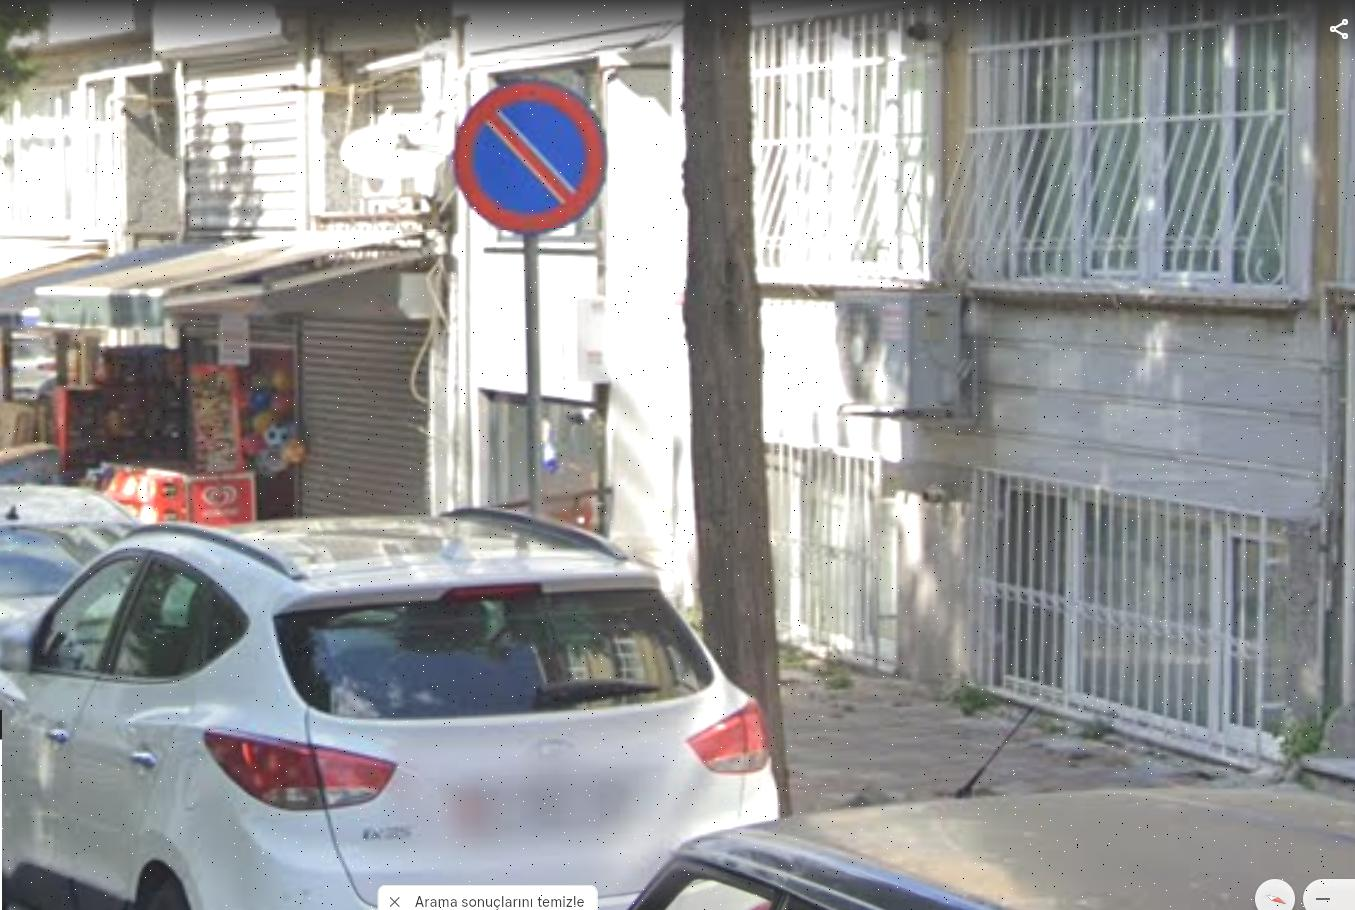nopark: (462, 82, 605, 230)
